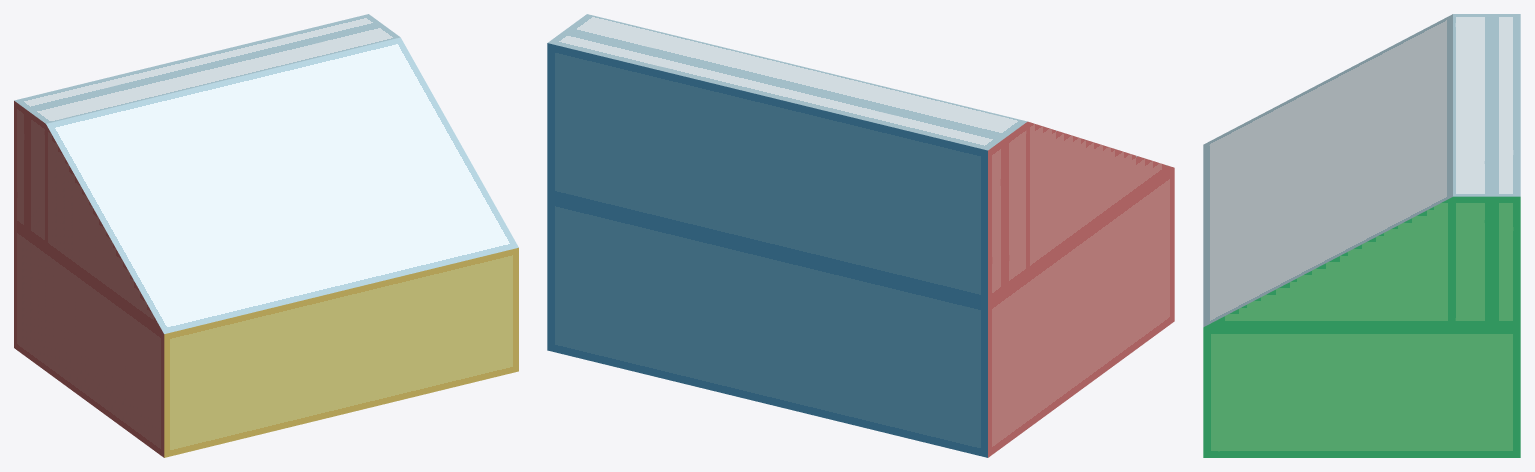
The model's file is console.glb.
3 renders of one model, left to right at view 1: azimuth 30°, elevation 25°; view 2: azimuth 150°, elevation 25°; view 3: azimuth 270°, elevation 25°, orthographic. The views are drawn at different scales.
Parts seen in each view (by area): view 1: cuboid, cube (×3); view 2: cube (×3), cuboid; view 3: cube (×3), cuboid.
Boxes of the visible parts, x1=… form: cuboid: x1=46, y1=37, x2=518, y2=334; cube (×3): x1=14, y1=14, x2=518, y2=457; cube (×3): x1=547, y1=14, x2=1174, y2=457; cuboid: x1=1027, y1=121, x2=1173, y2=274; cube (×3): x1=1203, y1=14, x2=1520, y2=457; cuboid: x1=1203, y1=14, x2=1452, y2=327.
Size of the model in its own units: 3.75 by 2.5 by 2.75.
1 material, 1 textured.
